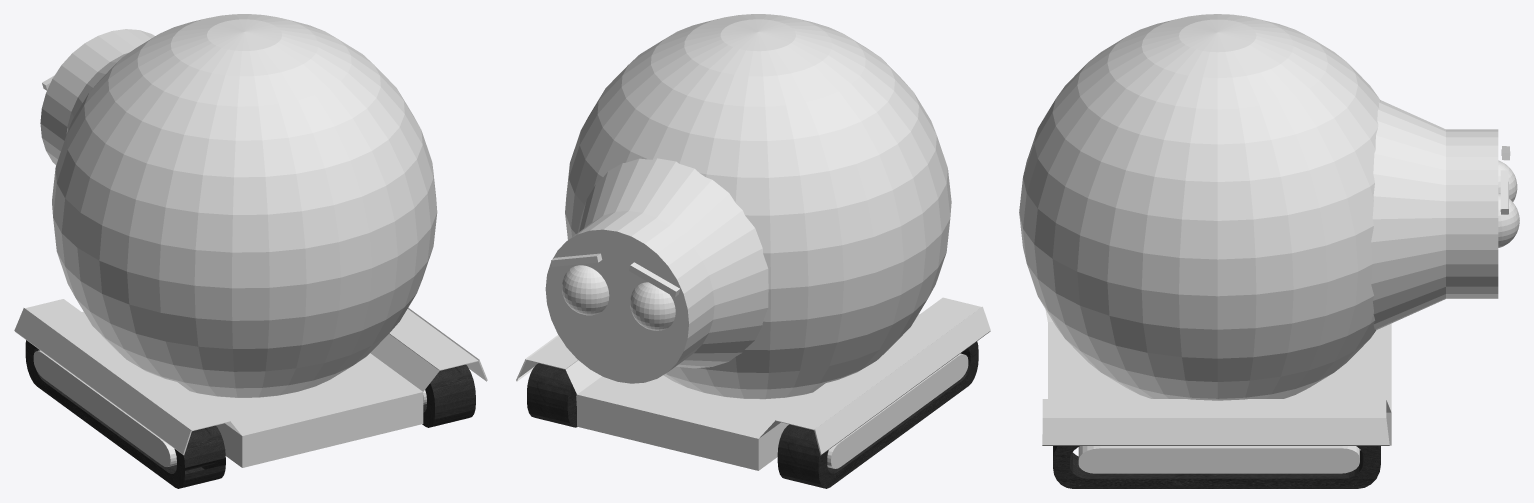
Rendered from newminerobot.fbx.
The picture shows the model from 3 angles, left to right: view 1: azimuth 30°, elevation 25°; view 2: azimuth 150°, elevation 25°; view 3: azimuth 270°, elevation 25°; orthographic projection. The views are drawn at different scales.
Visible parts, largest first — view 1: Sphere, Wheel Cover, Sphere.004, Sphere.005, Cube, Left Wheel Inside, Sphere.001, Cylinder.001, Right Wheel, Cylinder.003, Cylinder; view 2: Sphere, Wheel Cover, Cylinder.001, Cylinder, Sphere.001, Cube, Left Wheel Inside, Right Wheel, Right Eye, Left Eye, Cylinder.003, Left Eyebrow; view 3: Sphere, Wheel Cover, Cylinder, Sphere.003, Right Wheel Inside, Right Wheel, Cylinder.001, Sphere.004, Cylinder.003, Sphere.005, Right Eye, Cylinder.002.
Boxes of the visible parts, x1,y1,x2,y2 form: Sphere: (52, 14, 437, 397); Wheel Cover: (14, 299, 487, 467); Sphere.004: (232, 186, 417, 348); Sphere.005: (269, 221, 397, 320); Cube: (25, 340, 225, 488); Left Wheel Inside: (33, 350, 176, 466); Sphere.001: (57, 150, 109, 322); Cylinder.001: (40, 30, 154, 165); Right Wheel: (422, 364, 475, 427); Cylinder.003: (40, 35, 154, 151); Cylinder: (66, 52, 128, 133); Sphere: (565, 14, 951, 399); Wheel Cover: (516, 297, 990, 470); Cylinder.001: (545, 212, 714, 383); Cylinder: (577, 158, 768, 368); Sphere.001: (867, 178, 937, 334); Cube: (777, 341, 978, 488); Left Wheel Inside: (827, 353, 968, 468); Right Wheel: (527, 363, 577, 427); Right Eye: (562, 265, 609, 315); Left Eye: (630, 282, 675, 330); Cylinder.003: (569, 217, 714, 337); Left Eyebrow: (629, 262, 679, 297); Sphere: (1034, 14, 1380, 400); Wheel Cover: (1042, 309, 1391, 445); Cylinder: (1371, 100, 1445, 330); Sphere.003: (1179, 219, 1291, 358); Right Wheel Inside: (1078, 446, 1359, 473); Right Wheel: (1053, 446, 1380, 488); Cylinder.001: (1446, 129, 1498, 298); Sphere.004: (1023, 130, 1055, 309); Cylinder.003: (1446, 170, 1498, 276); Sphere.005: (1019, 178, 1037, 278); Right Eye: (1498, 193, 1519, 247); Cylinder.002: (1446, 145, 1498, 156).
Size of the model in its own units: 143 by 180 by 151.
Materials: 4 (1 with a texture image).
